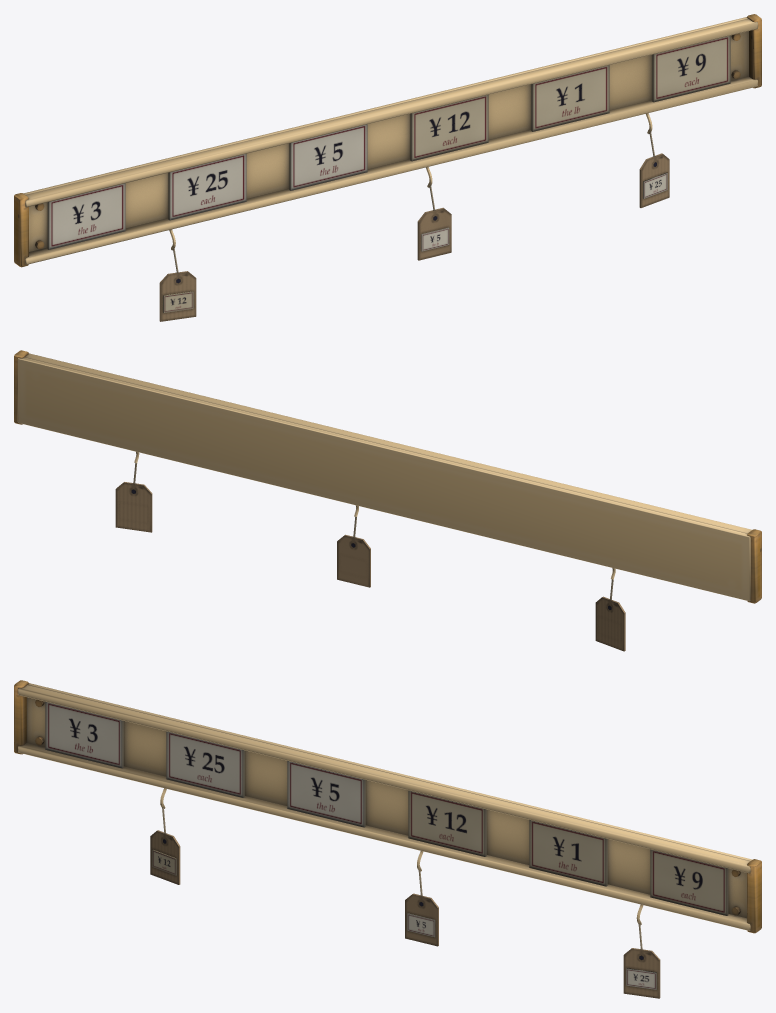
The model's file is PriceTagRail.fbx.
3 renders of one model, top to bottom at view 1: azimuth 30°, elevation 25°; view 2: azimuth 150°, elevation 25°; view 3: azimuth 330°, elevation 25°, orthographic.
Parts seen in each view (by area): view 1: PriceTagRail; view 2: PriceTagRail; view 3: PriceTagRail.
Boxes of the visible parts, left/top/right/bottom form: PriceTagRail: left=14, top=14, right=761, bottom=321; PriceTagRail: left=14, top=350, right=761, bottom=651; PriceTagRail: left=14, top=680, right=761, bottom=998.
Bounding box in the file's own units: 405 × 81 × 12.28.
